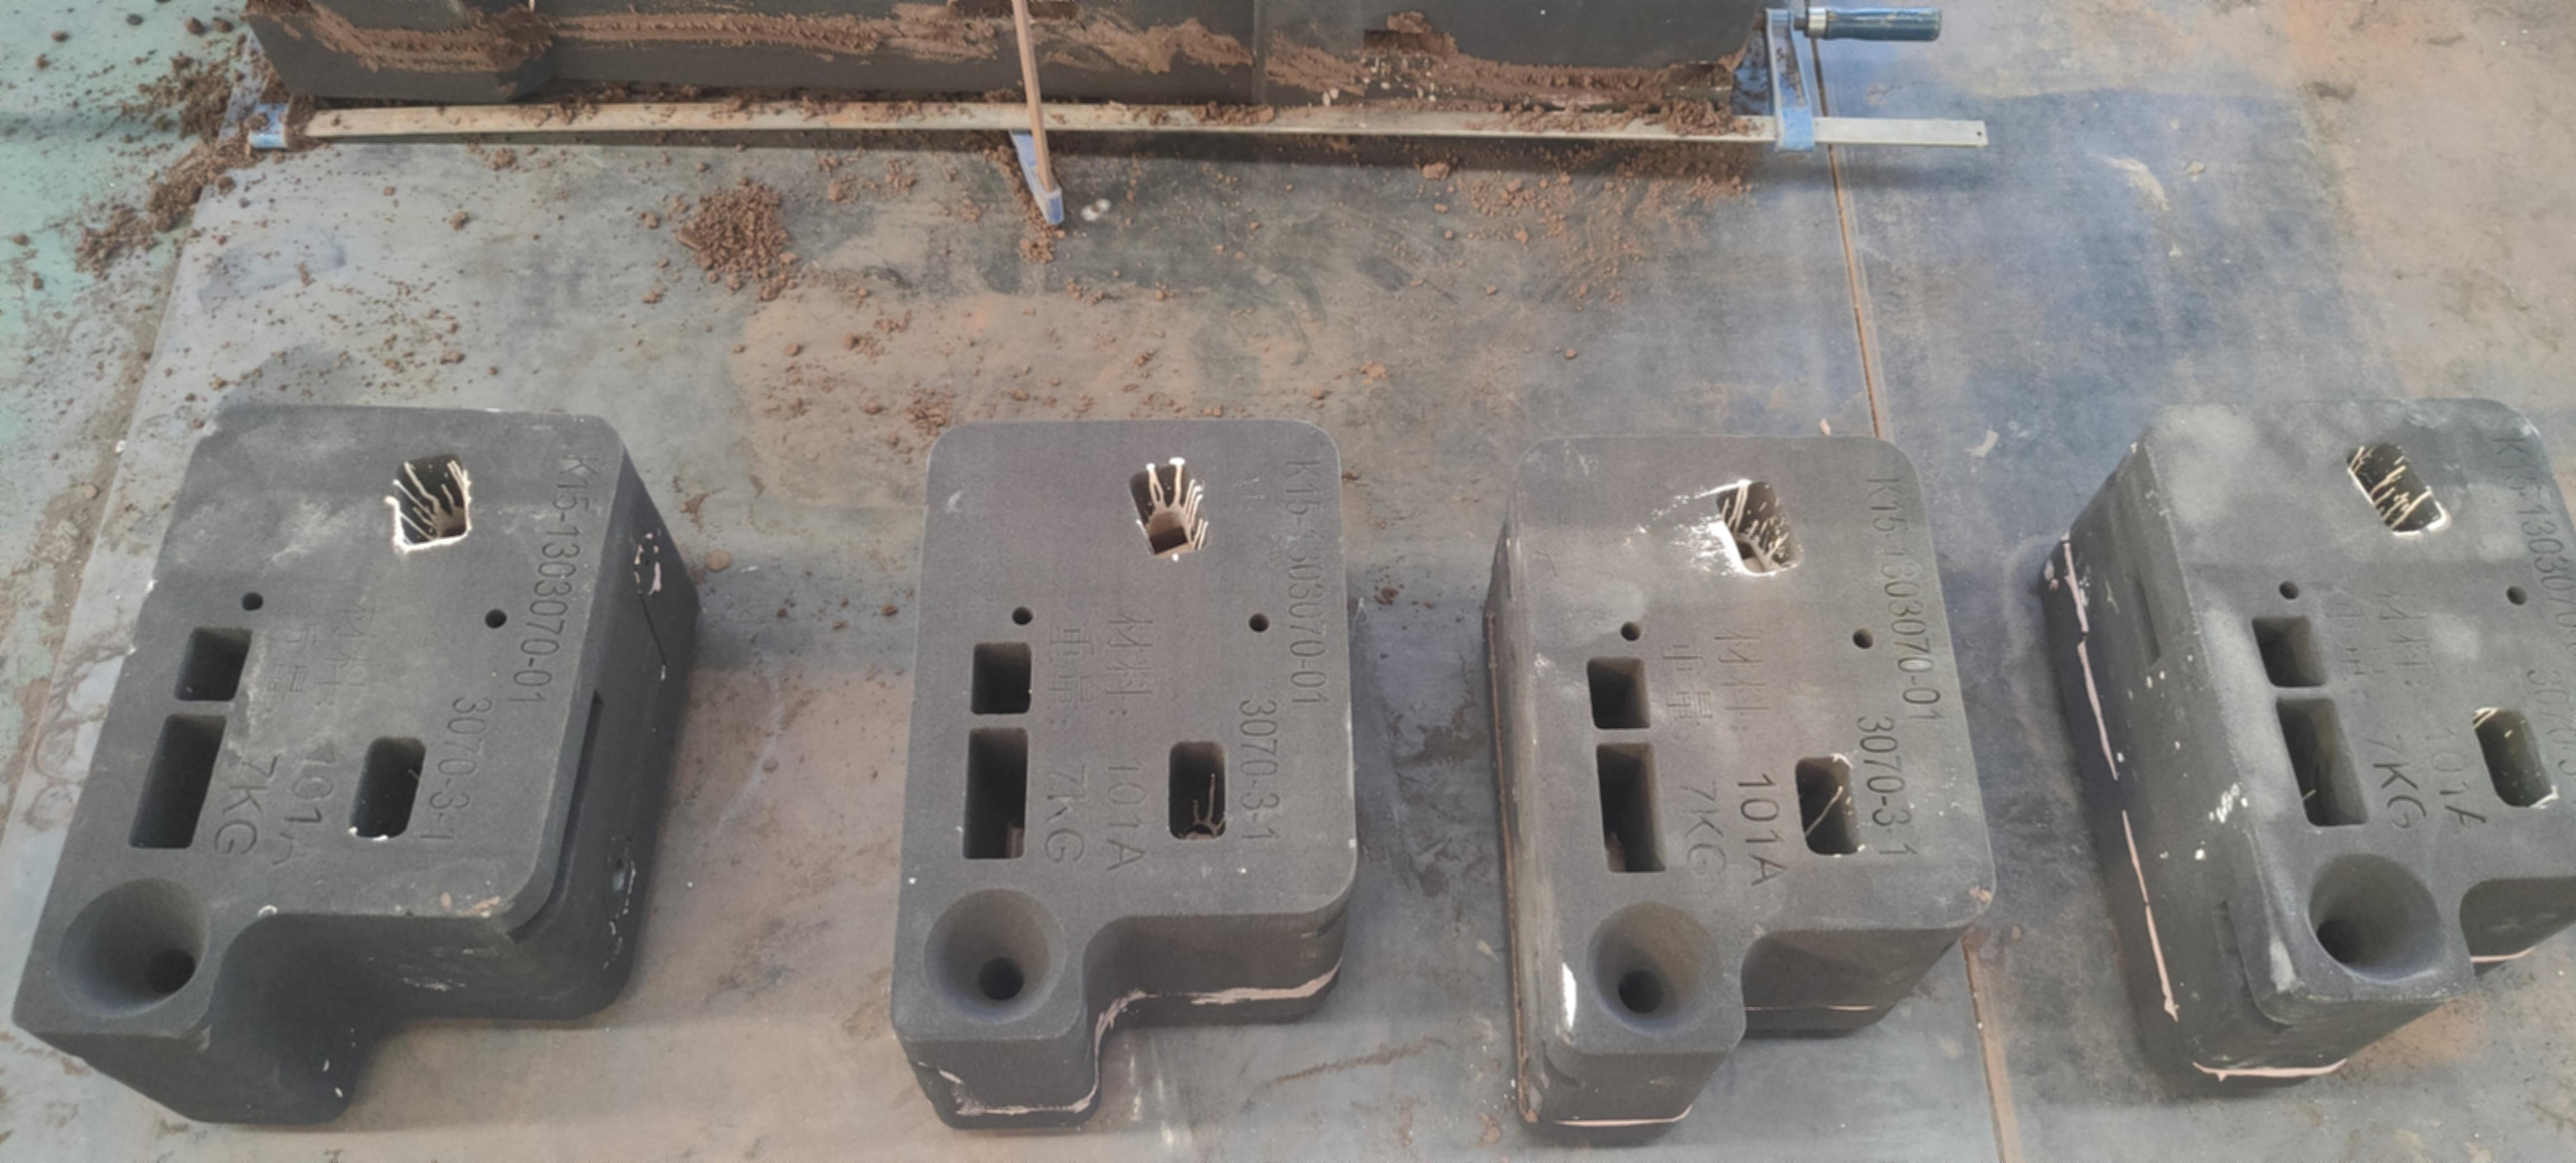pouring hole: (56, 877, 210, 1017), (920, 887, 1068, 1025), (2303, 853, 2446, 986), (1585, 902, 1723, 1038)
